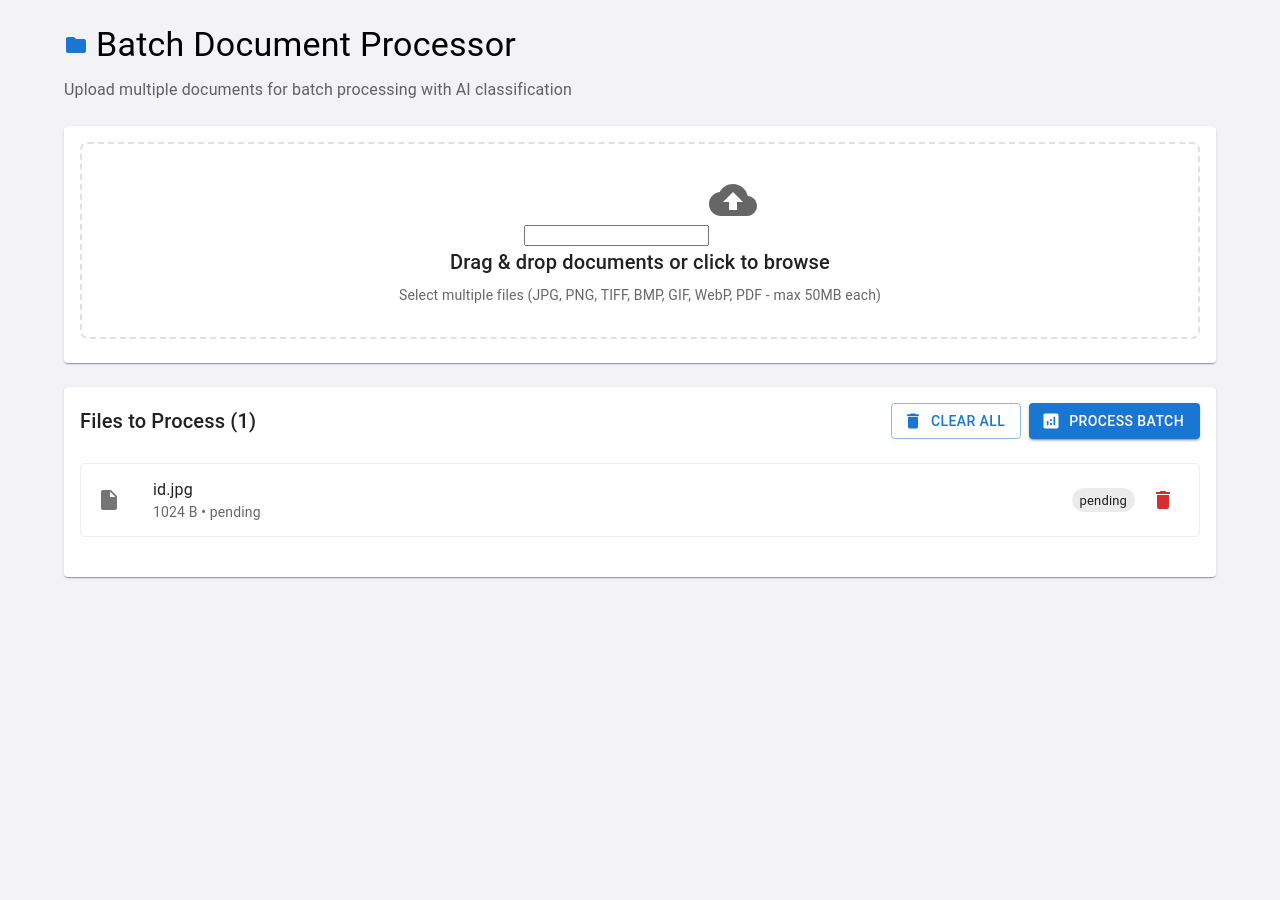
BatchProcessor › processing batch — success › shows the results table with column headers
The image size is (1280, 900).
Step 1. Click the button "Process Batch" → x=1115, y=421, box x1=1029 y1=403 x2=1200 y2=439
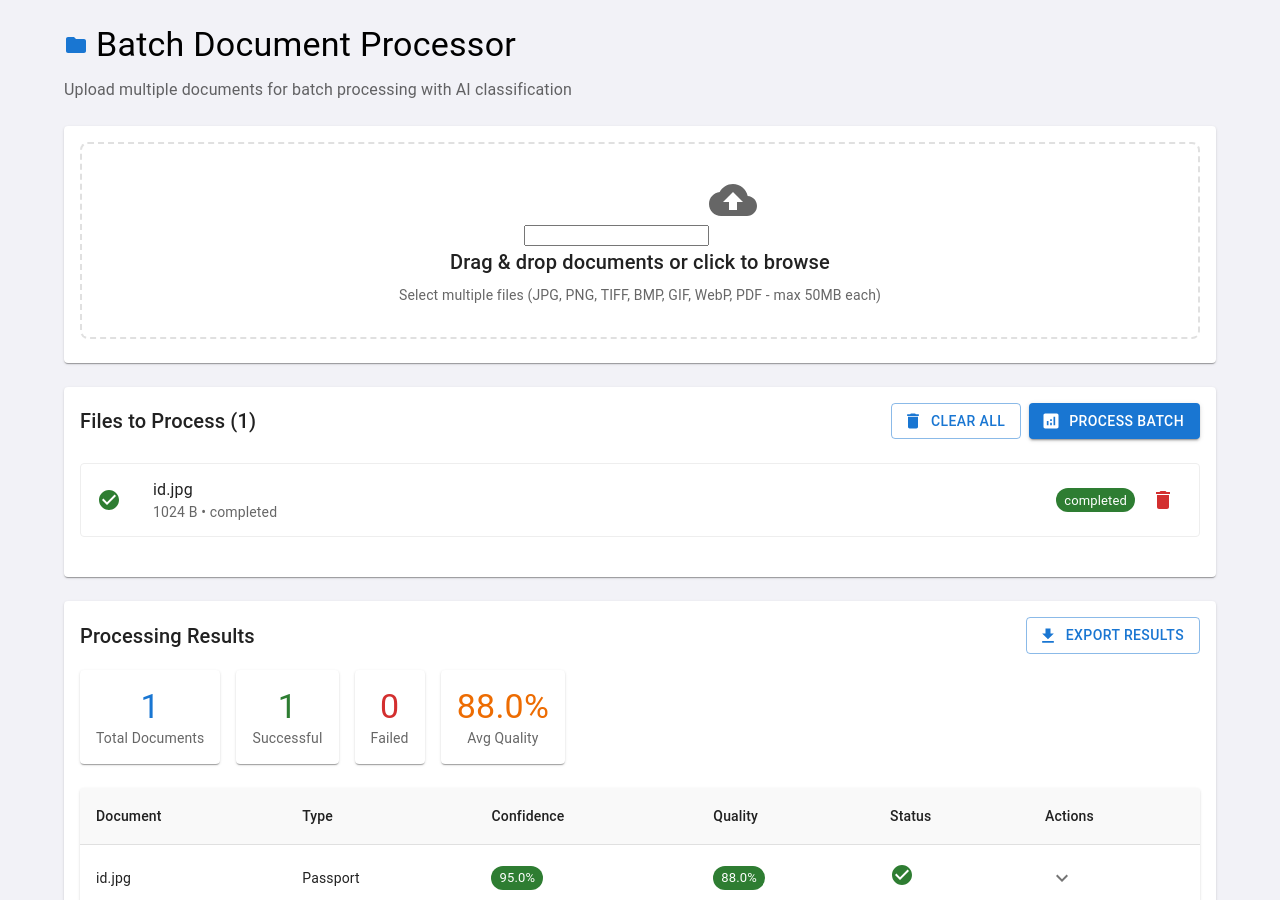
expect the column heading "Document" is shown: met, box x1=80 y1=788 x2=286 y2=844
expect the column heading "Type" is shown: met, box x1=286 y1=788 x2=475 y2=844
expect the column heading "Confidence" is shown: met, box x1=476 y1=788 x2=697 y2=844
